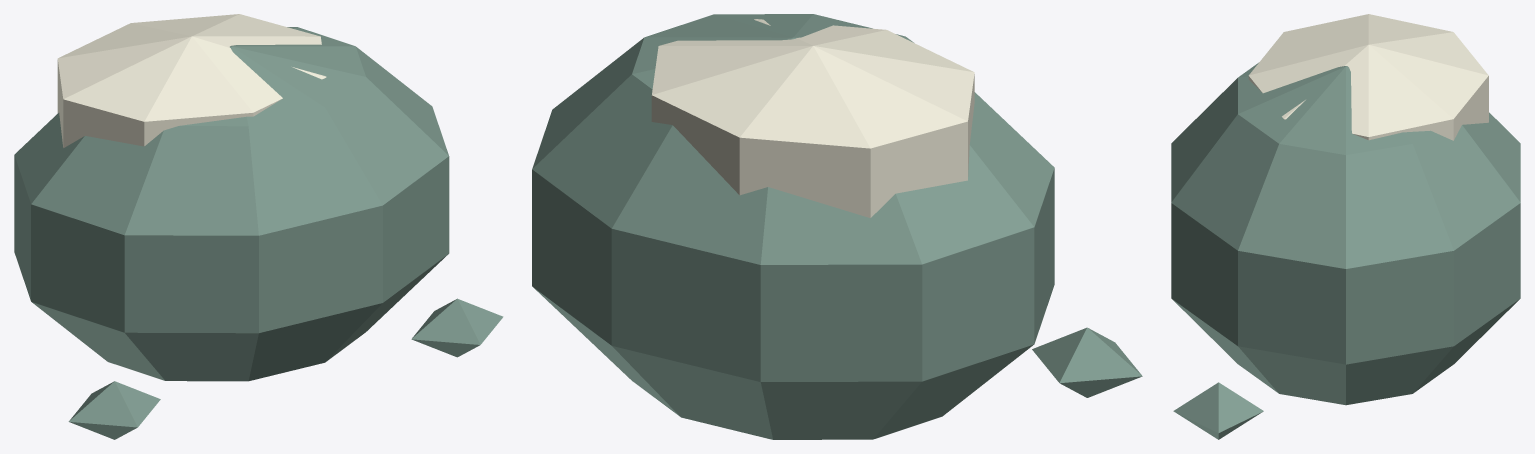
Rendered from boulder.glb.
3 renders of one model, left to right at view 1: azimuth 30°, elevation 25°; view 2: azimuth 150°, elevation 25°; view 3: azimuth 270°, elevation 25°, orthographic. The views are drawn at different scales.
Visible parts, largest first — view 1: faceted-boulder; view 2: faceted-boulder; view 3: faceted-boulder.
Part boxes in pixels (x1,y1,x2,y2): faceted-boulder: [14, 14, 503, 439]; faceted-boulder: [532, 14, 1142, 439]; faceted-boulder: [1171, 14, 1520, 439].
Bounding box in the file's own units: 2.16 × 1.54 × 1.54.
